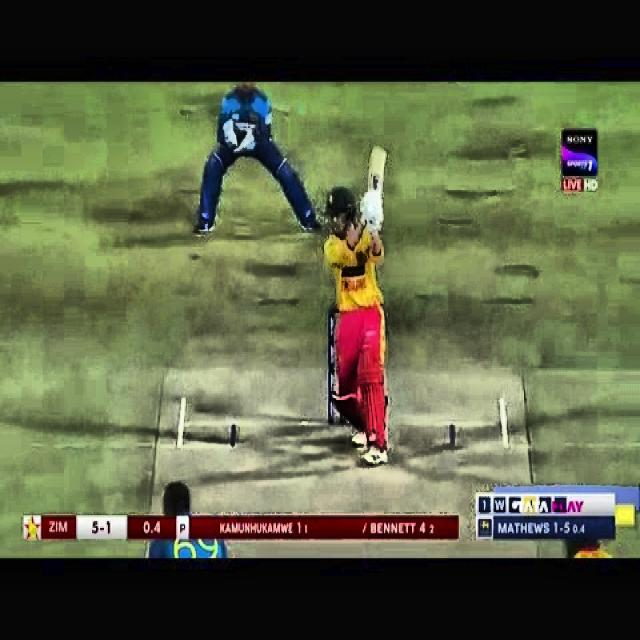Left-stump: (329, 316, 334, 422)
Middle-stump: (341, 415, 348, 421)
